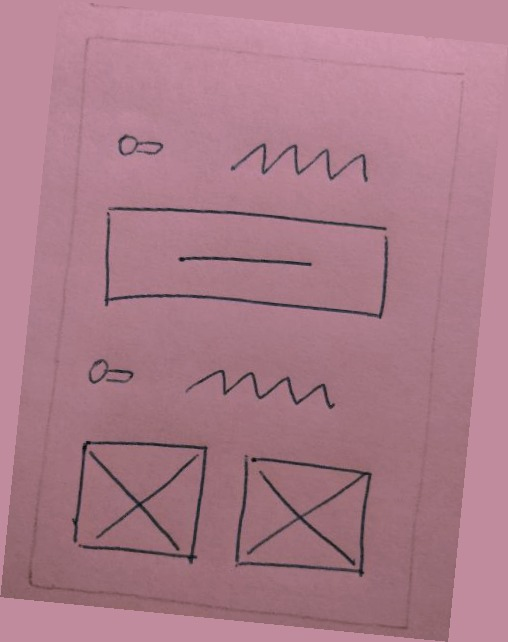button: (90, 193, 407, 339)
image: (216, 445, 391, 595), (65, 424, 217, 570)
switch: (104, 117, 183, 173), (73, 346, 146, 397)
text: (169, 354, 357, 424), (219, 127, 384, 193)
